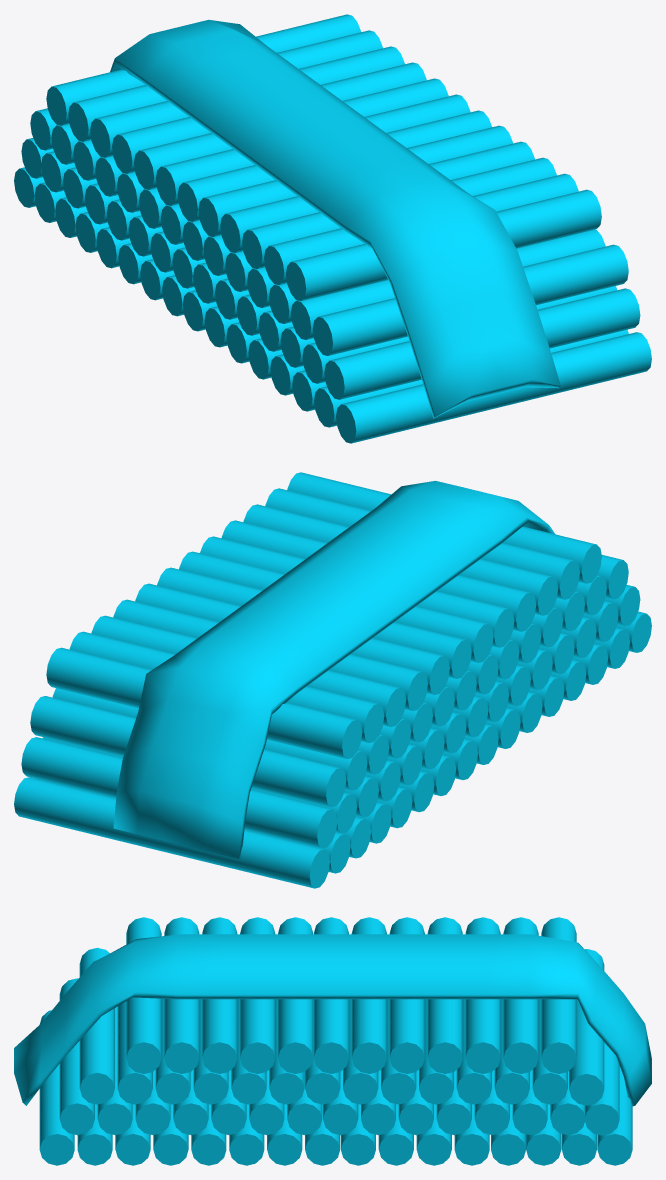
File: LogCoverMain.fbx
3 renders of one model, top to bottom at view 1: azimuth 30°, elevation 25°; view 2: azimuth 150°, elevation 25°; view 3: azimuth 270°, elevation 25°, orthographic. The views are drawn at different scales.
Visible parts, largest first — view 1: LumberCover_low, Lumber_low007, Lumber_low047, Lumber_low021, Lumber_low034, Lumber_low051, Lumber_low052, Lumber_low043, Lumber_low045, Lumber_low053, Lumber_low044, Lumber_low054 (+46 smaller); view 2: LumberCover_low, Lumber_low057, Lumber_low058, Lumber_low059, Lumber_low050, Lumber_low047, Lumber_low053, Lumber_low056, Lumber_low055, Lumber_low054, Lumber_low046, Lumber_low052 (+46 smaller); view 3: LumberCover_low, Lumber_low047, Lumber_low034, Lumber_low050, Lumber_low046, Lumber_low051, Lumber_low052, Lumber_low045, Lumber_low053, Lumber_low044, Lumber_low054, Lumber_low043 (+46 smaller).
Part boxes in pixels (box(x1,y1,x2,y2)): LumberCover_low: box(110, 19, 560, 418); Lumber_low007: box(336, 332, 651, 443); Lumber_low047: box(286, 189, 601, 300); Lumber_low021: box(324, 288, 640, 399); Lumber_low034: box(313, 244, 628, 355); Lumber_low051: box(68, 30, 382, 141); Lumber_low052: box(90, 46, 404, 157); Lumber_low043: box(198, 125, 512, 236); Lumber_low045: box(242, 157, 556, 268); Lumber_low053: box(112, 62, 426, 173); Lumber_low044: box(220, 141, 534, 252); Lumber_low054: box(134, 78, 448, 189); LumberCover_low: box(113, 480, 554, 858); Lumber_low057: box(14, 777, 329, 888); Lumber_low058: box(21, 737, 336, 848); Lumber_low059: box(30, 696, 346, 807); Lumber_low050: box(46, 647, 362, 758); Lumber_low047: box(287, 472, 601, 583); Lumber_low053: box(113, 599, 427, 710); Lumber_low056: box(179, 551, 493, 662); Lumber_low055: box(157, 567, 471, 678); Lumber_low054: box(135, 583, 449, 694); Lumber_low046: box(265, 488, 579, 599); Lumber_low052: box(91, 615, 405, 726); LumberCover_low: box(14, 934, 651, 1106); Lumber_low047: box(126, 917, 161, 1073); Lumber_low034: box(79, 947, 114, 1104); Lumber_low050: box(541, 917, 576, 1073); Lumber_low046: box(164, 917, 199, 1073); Lumber_low051: box(503, 917, 538, 1073); Lumber_low052: box(465, 917, 500, 1073); Lumber_low045: box(202, 917, 237, 1073); Lumber_low053: box(427, 917, 462, 1073); Lumber_low044: box(240, 917, 275, 1073); Lumber_low054: box(389, 917, 424, 1073); Lumber_low043: box(278, 917, 313, 1073).
Bounding box in the file's own units: 6031 × 3367 × 13007.
